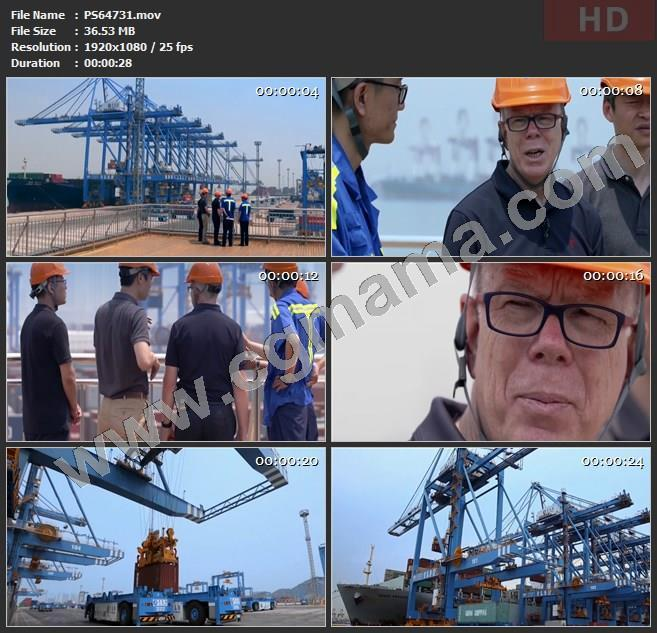helmet: (459, 265, 649, 309), (489, 78, 572, 110), (593, 75, 657, 105), (260, 255, 305, 287), (188, 261, 226, 288), (29, 262, 70, 287), (118, 262, 163, 276), (239, 193, 252, 204), (200, 185, 212, 195), (227, 187, 236, 199), (216, 190, 222, 199)
